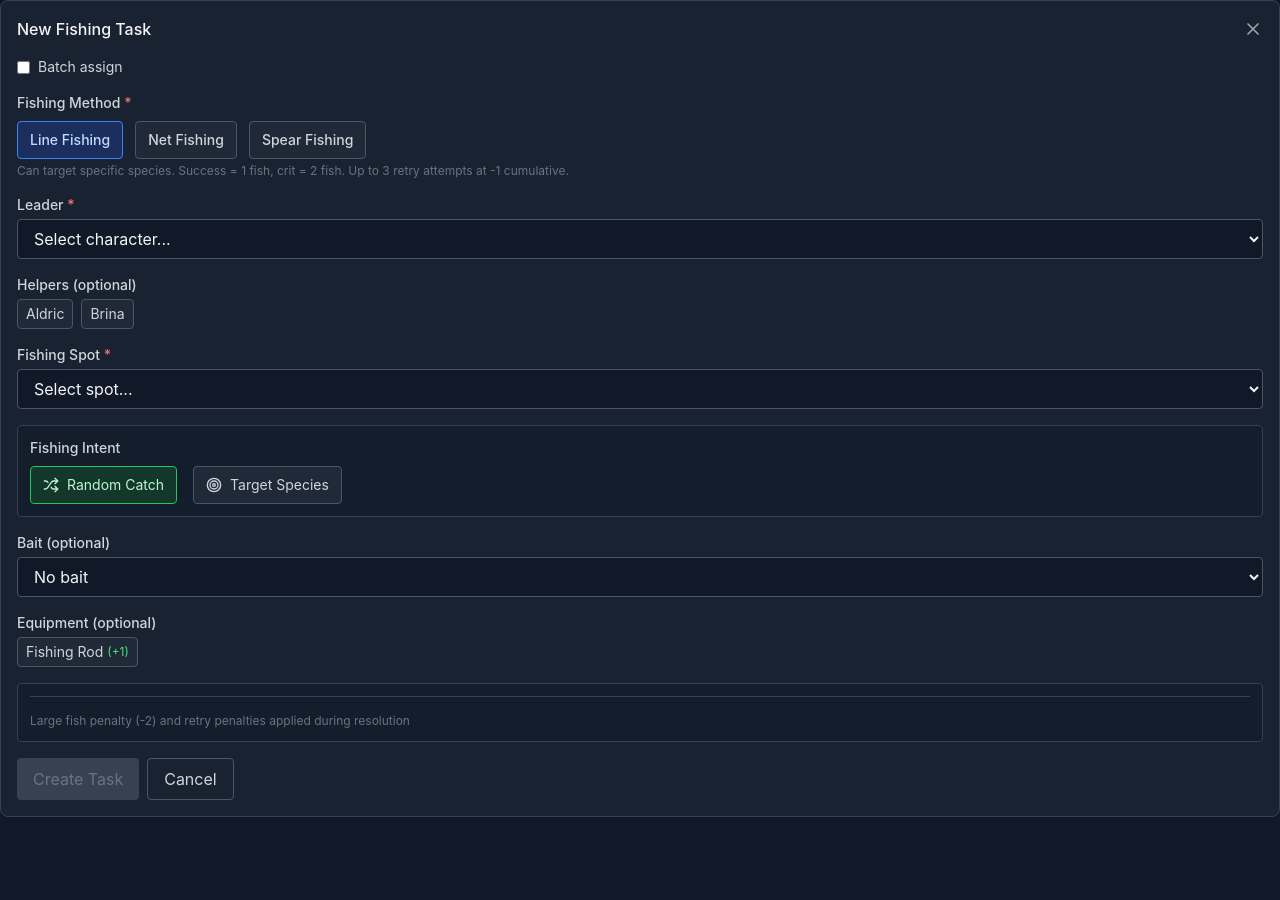
FishingTaskForm › interactions › enables submit button when required fields are filled (targeted mode)
# Fill required fields
Step 1. Select "Aldric" in the dropdown with test id "leader-select" → (640, 239), box [17, 219, 1263, 259]
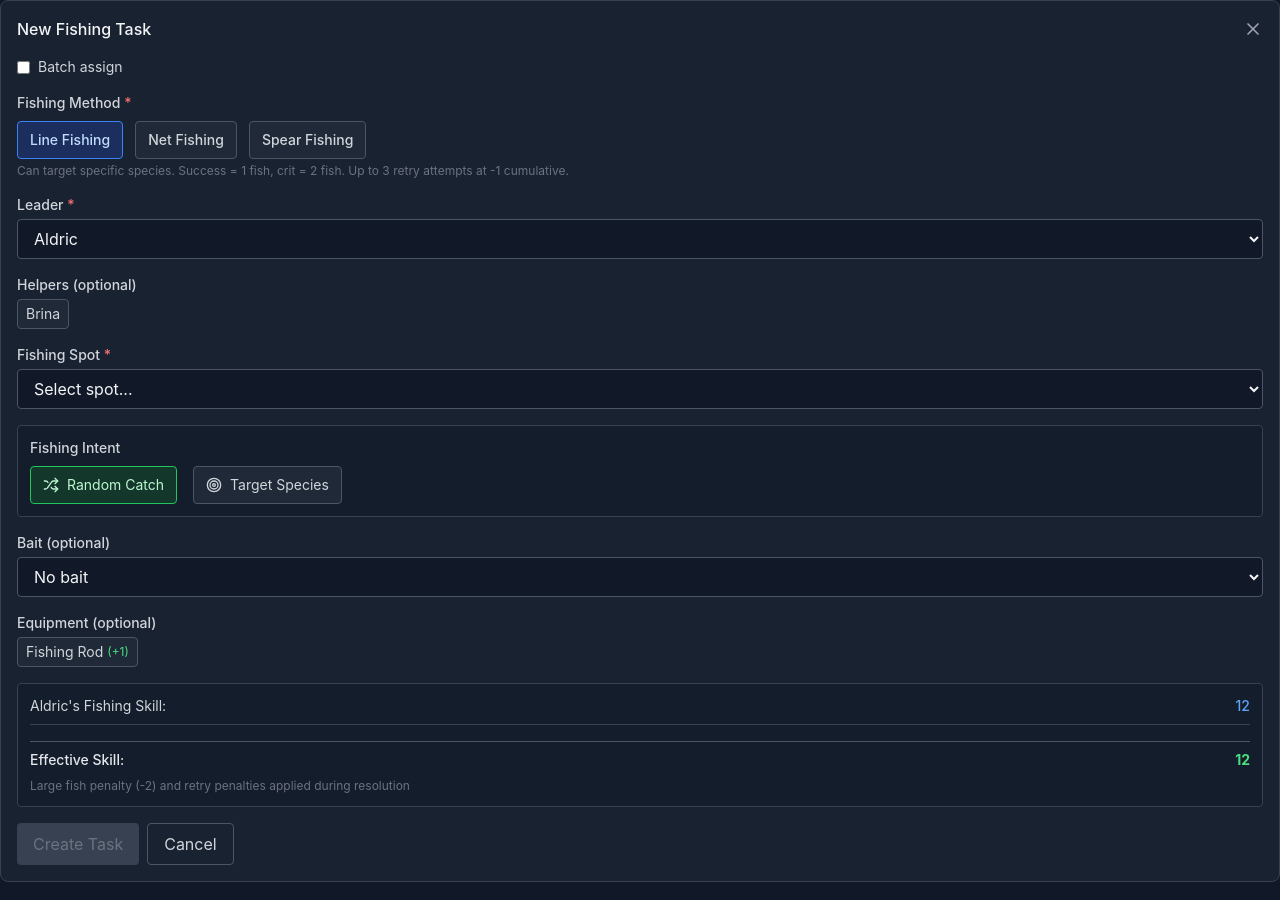
Step 2. Select "River Bank" in the dropdown with test id "spot-select" → (640, 389), box [17, 369, 1263, 409]
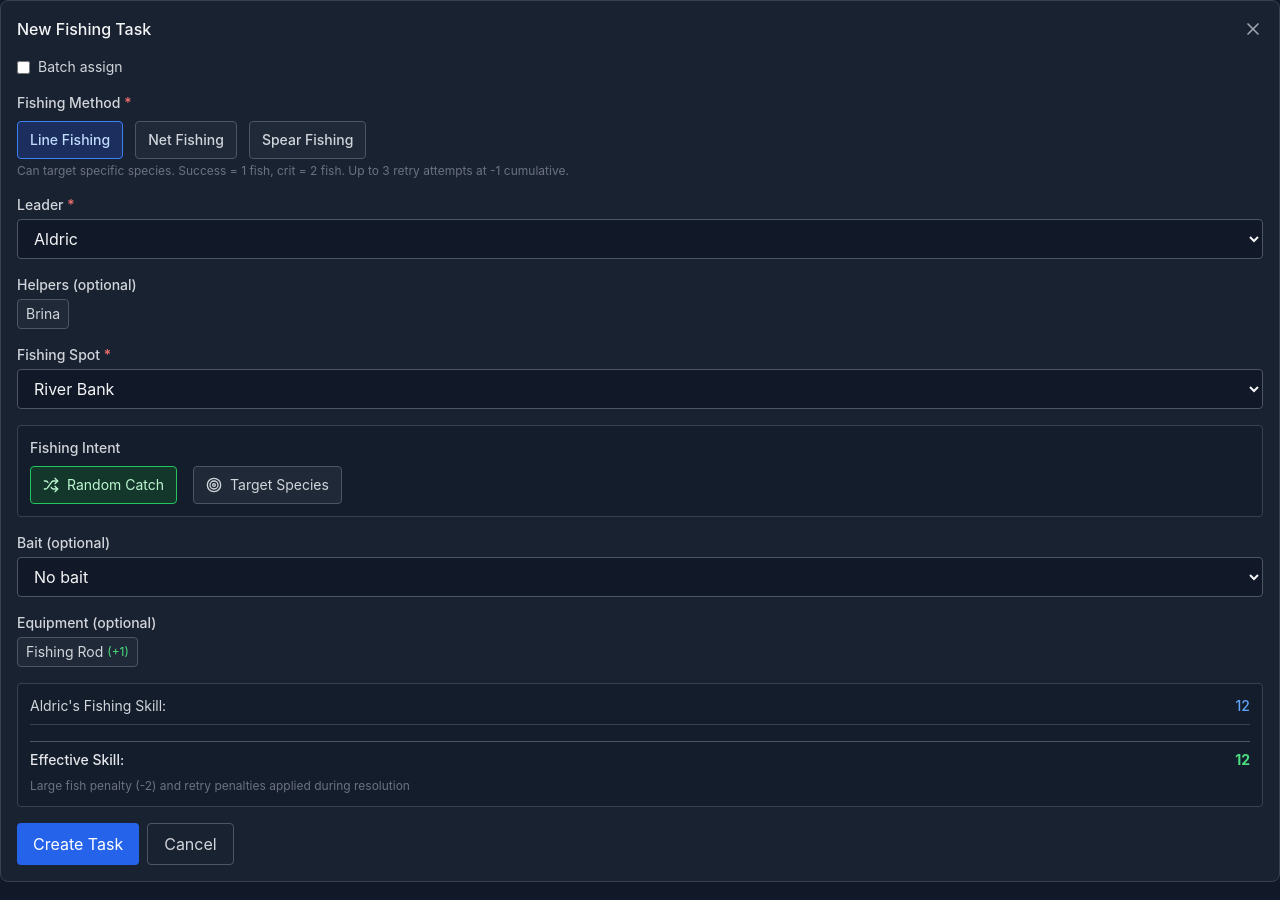
# Switch to targeted mode and select species
Step 3. Click the text "Target Species" → (280, 485), box [230, 475, 329, 495]
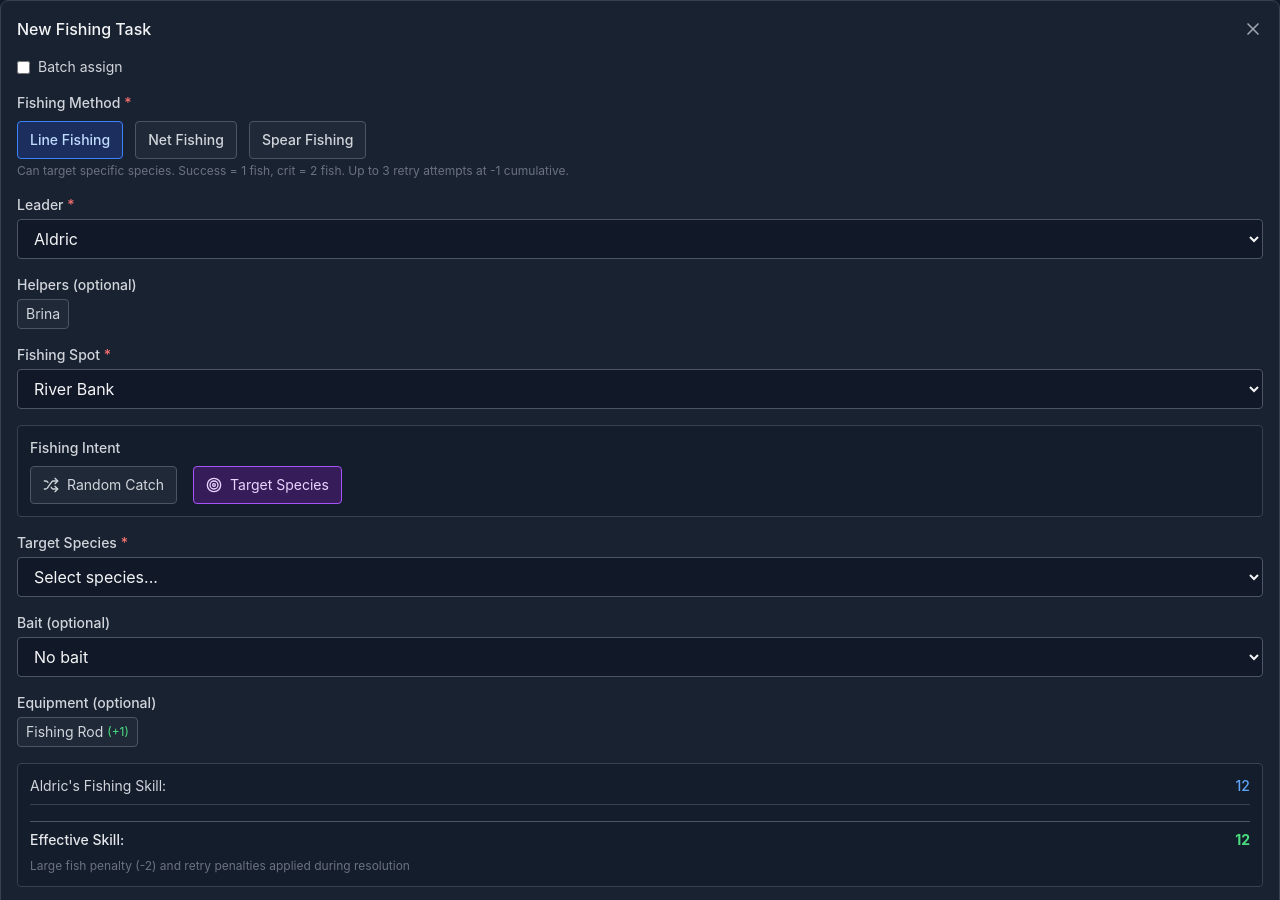
Step 4. Select "Trout" in the dropdown with test id "species-select" → (640, 577), box [17, 557, 1263, 597]
(page scrolled)
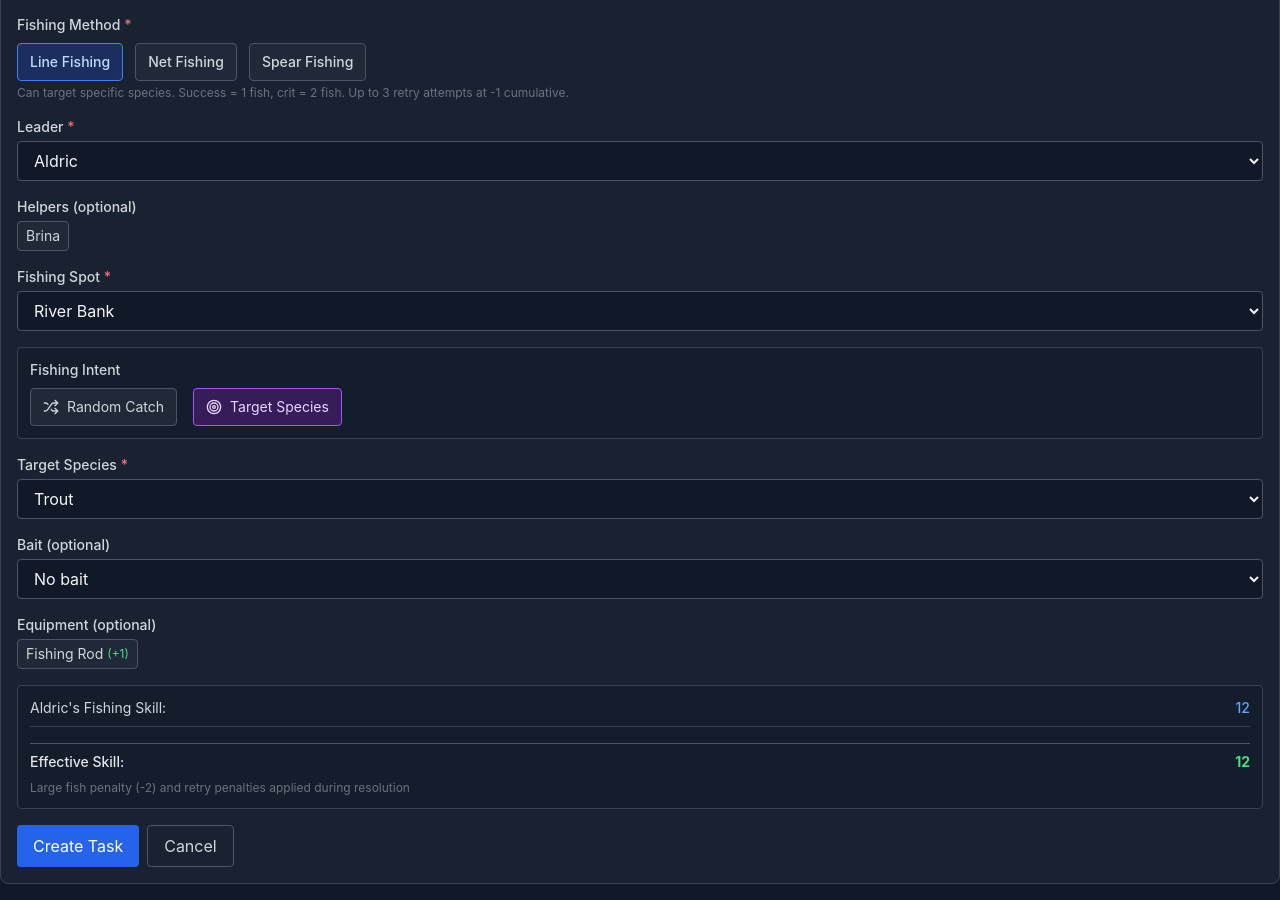
Now the button with test id "submit-button" is enabled, box [17, 825, 139, 867]
